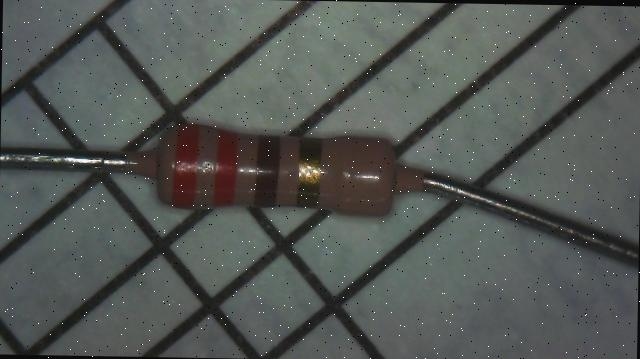brown: (258, 133, 279, 204)
gold: (298, 138, 322, 206)
orange: (171, 122, 200, 207), (214, 130, 236, 205)
resistor: (132, 104, 422, 242)
